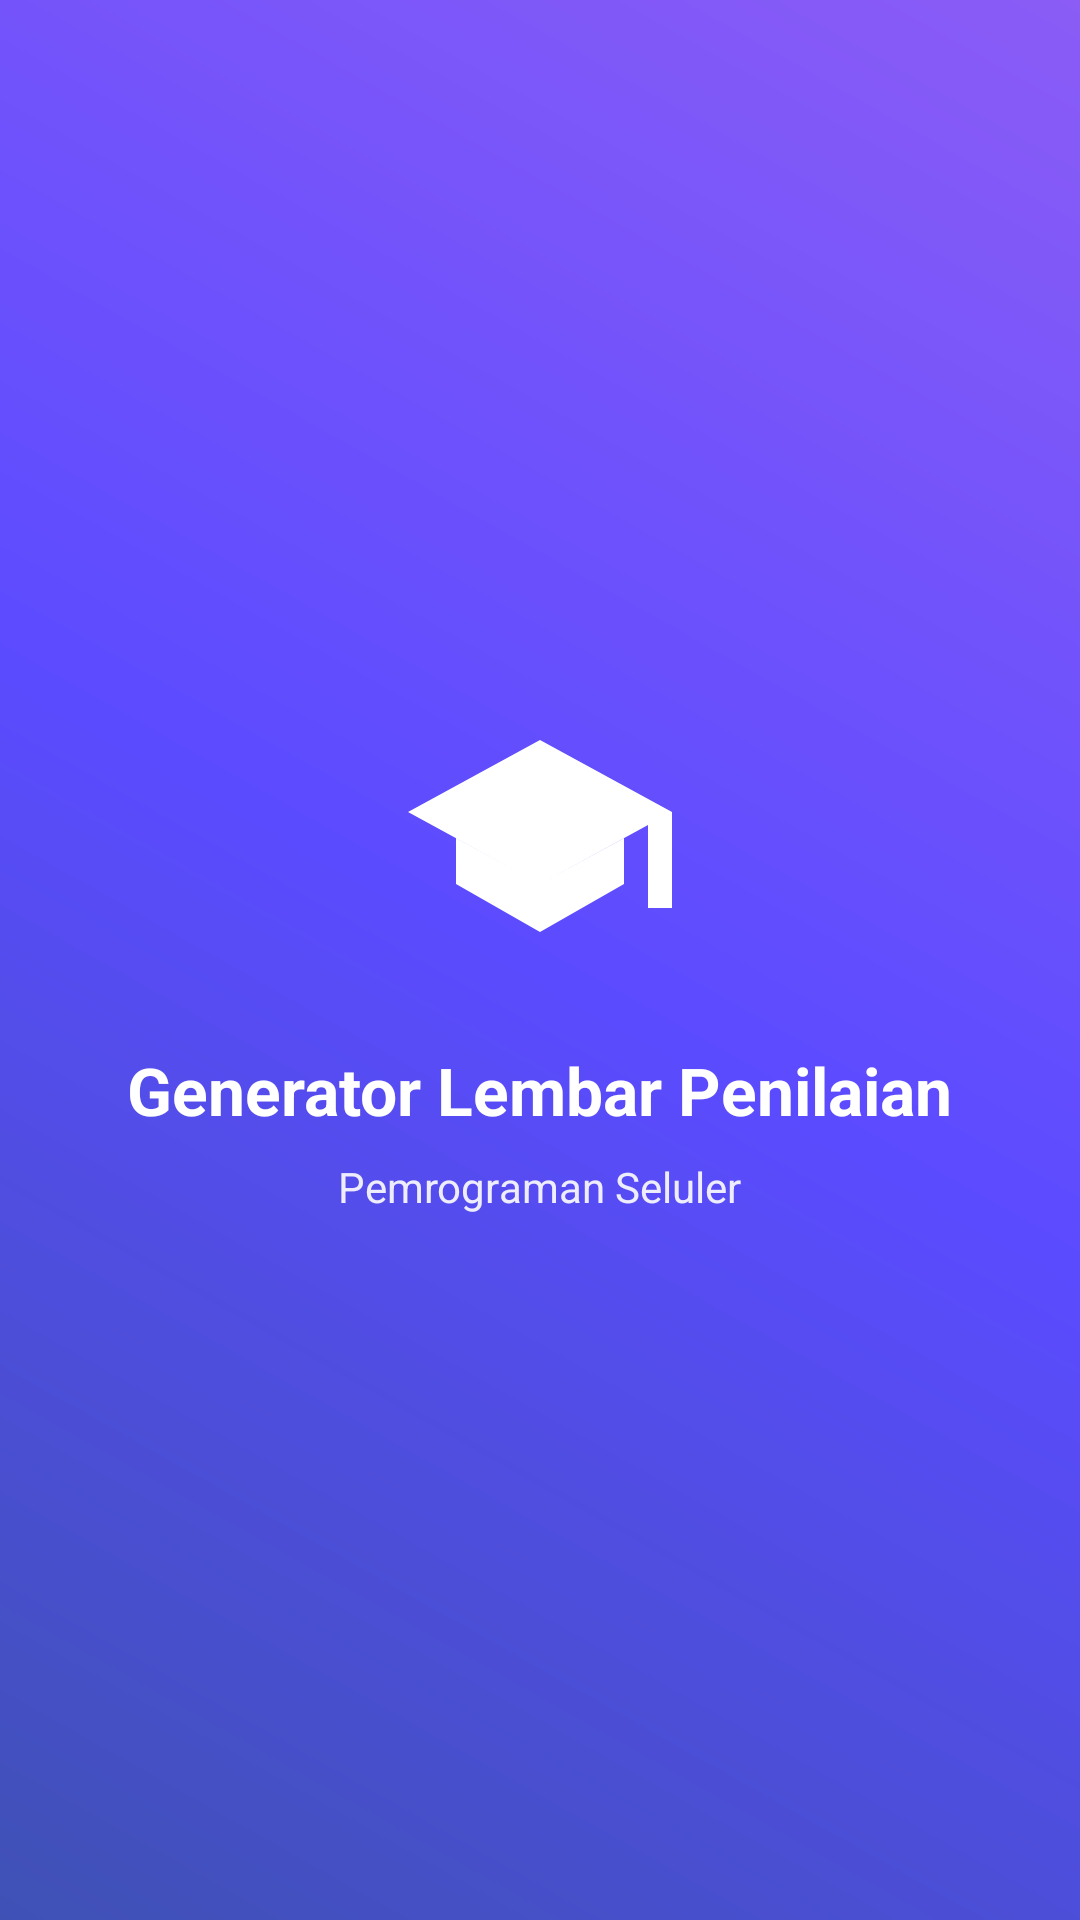

Screen size 1080px x 1920px. Icon name, then its center in pixels as point (x, y):
academic: point (540, 836)
